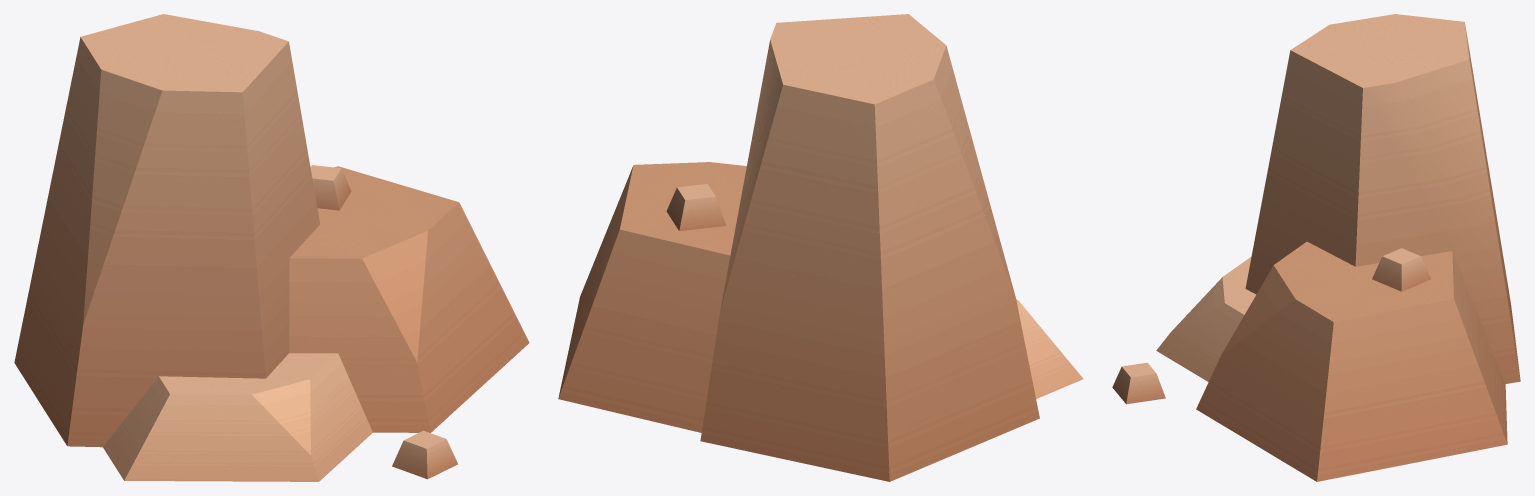
The model's file is rocksand1.glb.
3 views of the same model, side by side, from view 1: azimuth 30°, elevation 25°; view 2: azimuth 150°, elevation 25°; view 3: azimuth 270°, elevation 25° (orthographic). The views are drawn at different scales.
Parts seen in each view (by area): view 1: rock-sand-a; view 2: rock-sand-a; view 3: rock-sand-a.
Part boxes in pixels (x1=…): rock-sand-a: x1=14, y1=14, x2=529, y2=481; rock-sand-a: x1=558, y1=14, x2=1083, y2=481; rock-sand-a: x1=1112, y1=14, x2=1520, y2=481.
Bounding box in the file's own units: 0.5552 × 0.3927 × 0.4845.
1 material, 1 textured.
